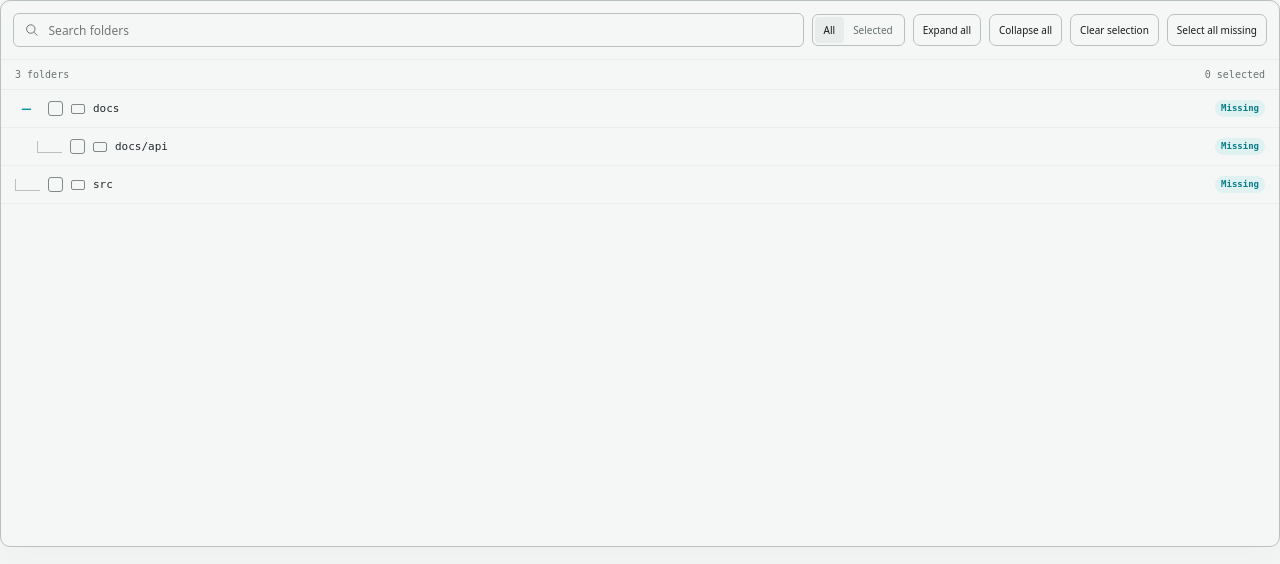
Test: DiffTree virtualization › provides explicit localized controls to collapse and expand the whole tree
Click the button "Collapse all": {"x": 1026, "y": 30} [989,14,1062,46]
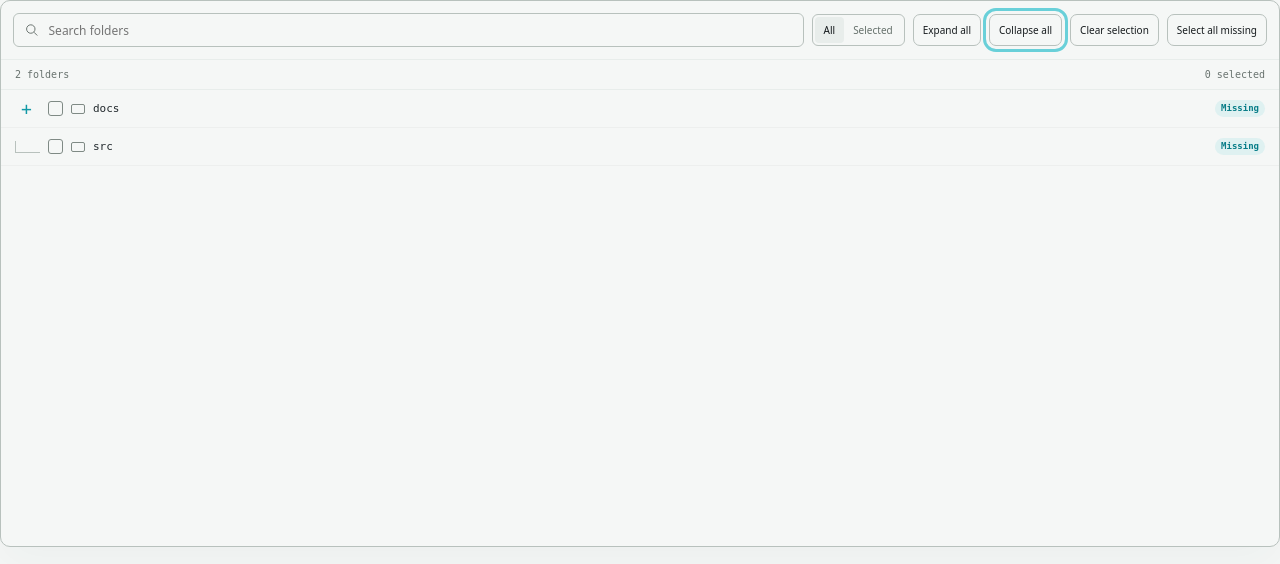
Expected: the text "docs/api" is gone
Click the button "Expand all": {"x": 947, "y": 30} [913,14,981,46]
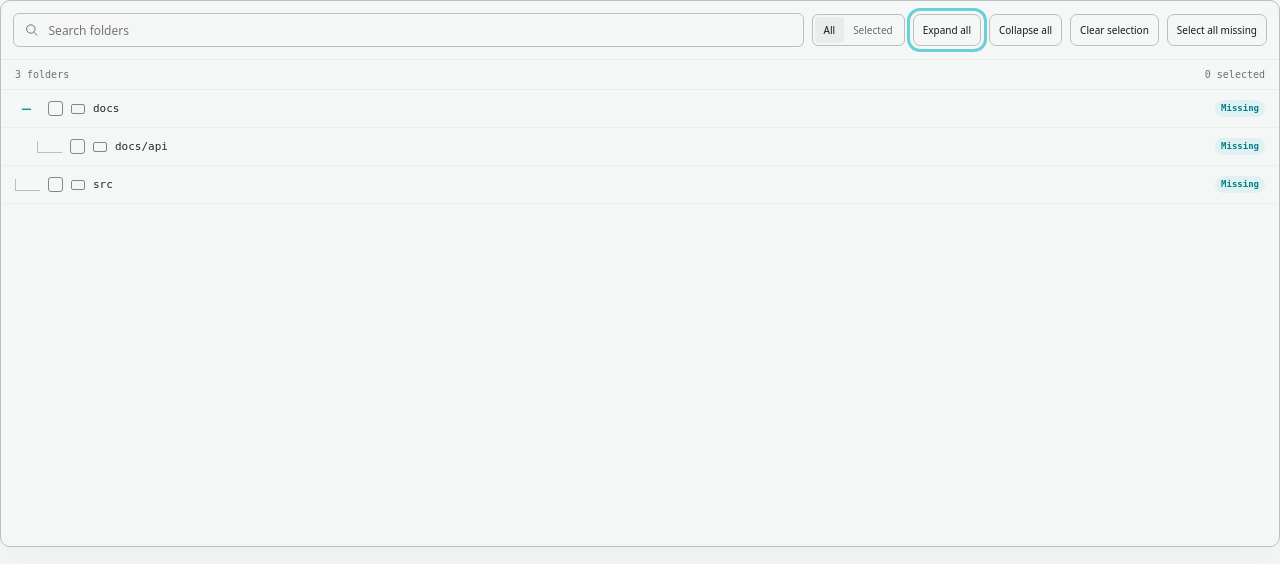
Expected: the list item "docs/api" is shown, [1,128,1279,166]
